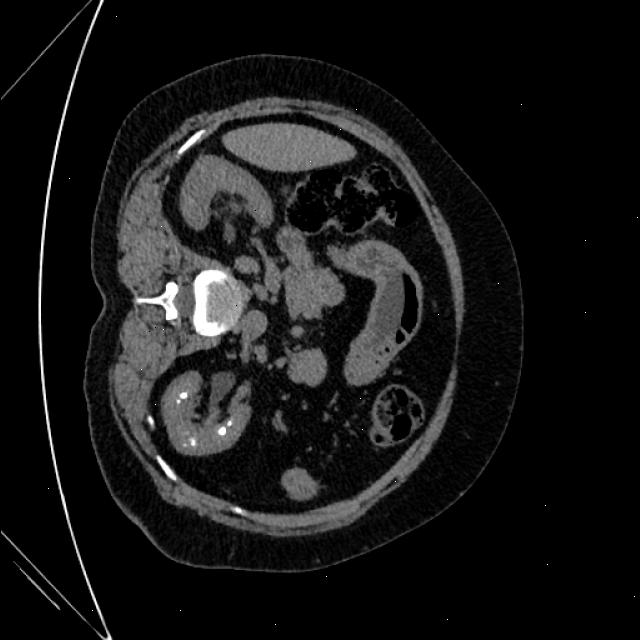kidneystone: (217, 426, 226, 436), (178, 392, 188, 399), (188, 436, 195, 446), (227, 420, 231, 426), (176, 399, 181, 402)
